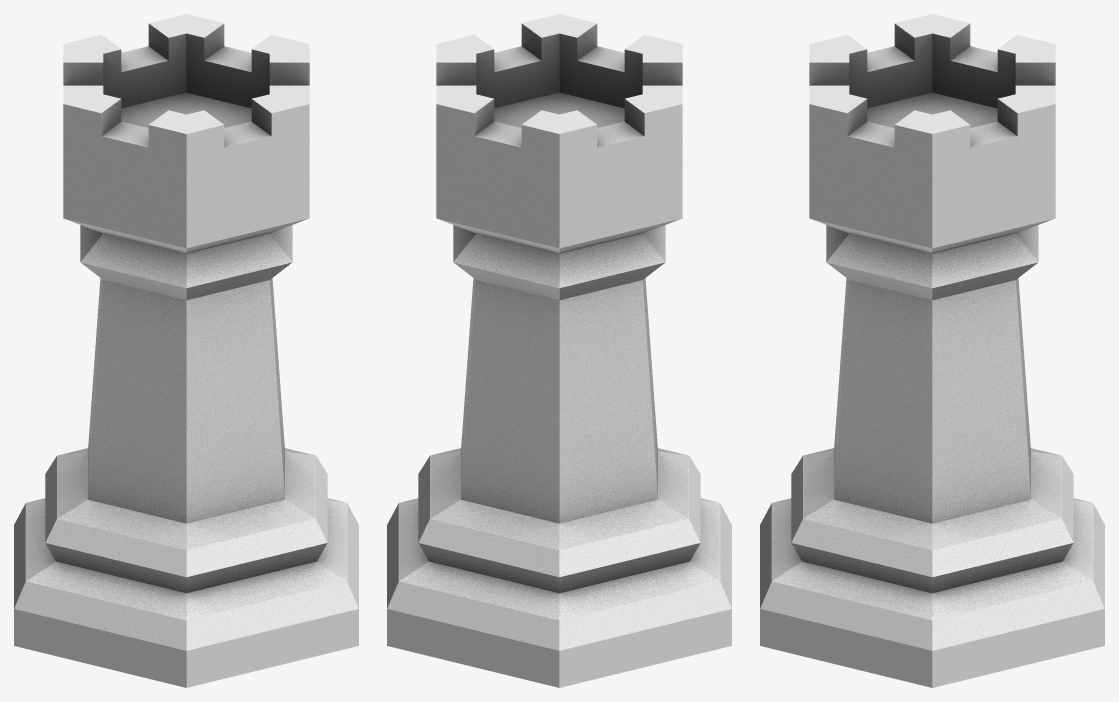
Rendered from rook.fbx.
3 renders of one model, left to right at view 1: azimuth 30°, elevation 25°; view 2: azimuth 150°, elevation 25°; view 3: azimuth 270°, elevation 25°, orthographic.
Visible parts, largest first — view 1: Rook; view 2: Rook; view 3: Rook.
Part boxes in pixels (x1=…): Rook: x1=14, y1=14, x2=358, y2=687; Rook: x1=387, y1=14, x2=731, y2=687; Rook: x1=760, y1=14, x2=1104, y2=687.
Size of the model in its own units: 89.57 by 132 by 77.57.
